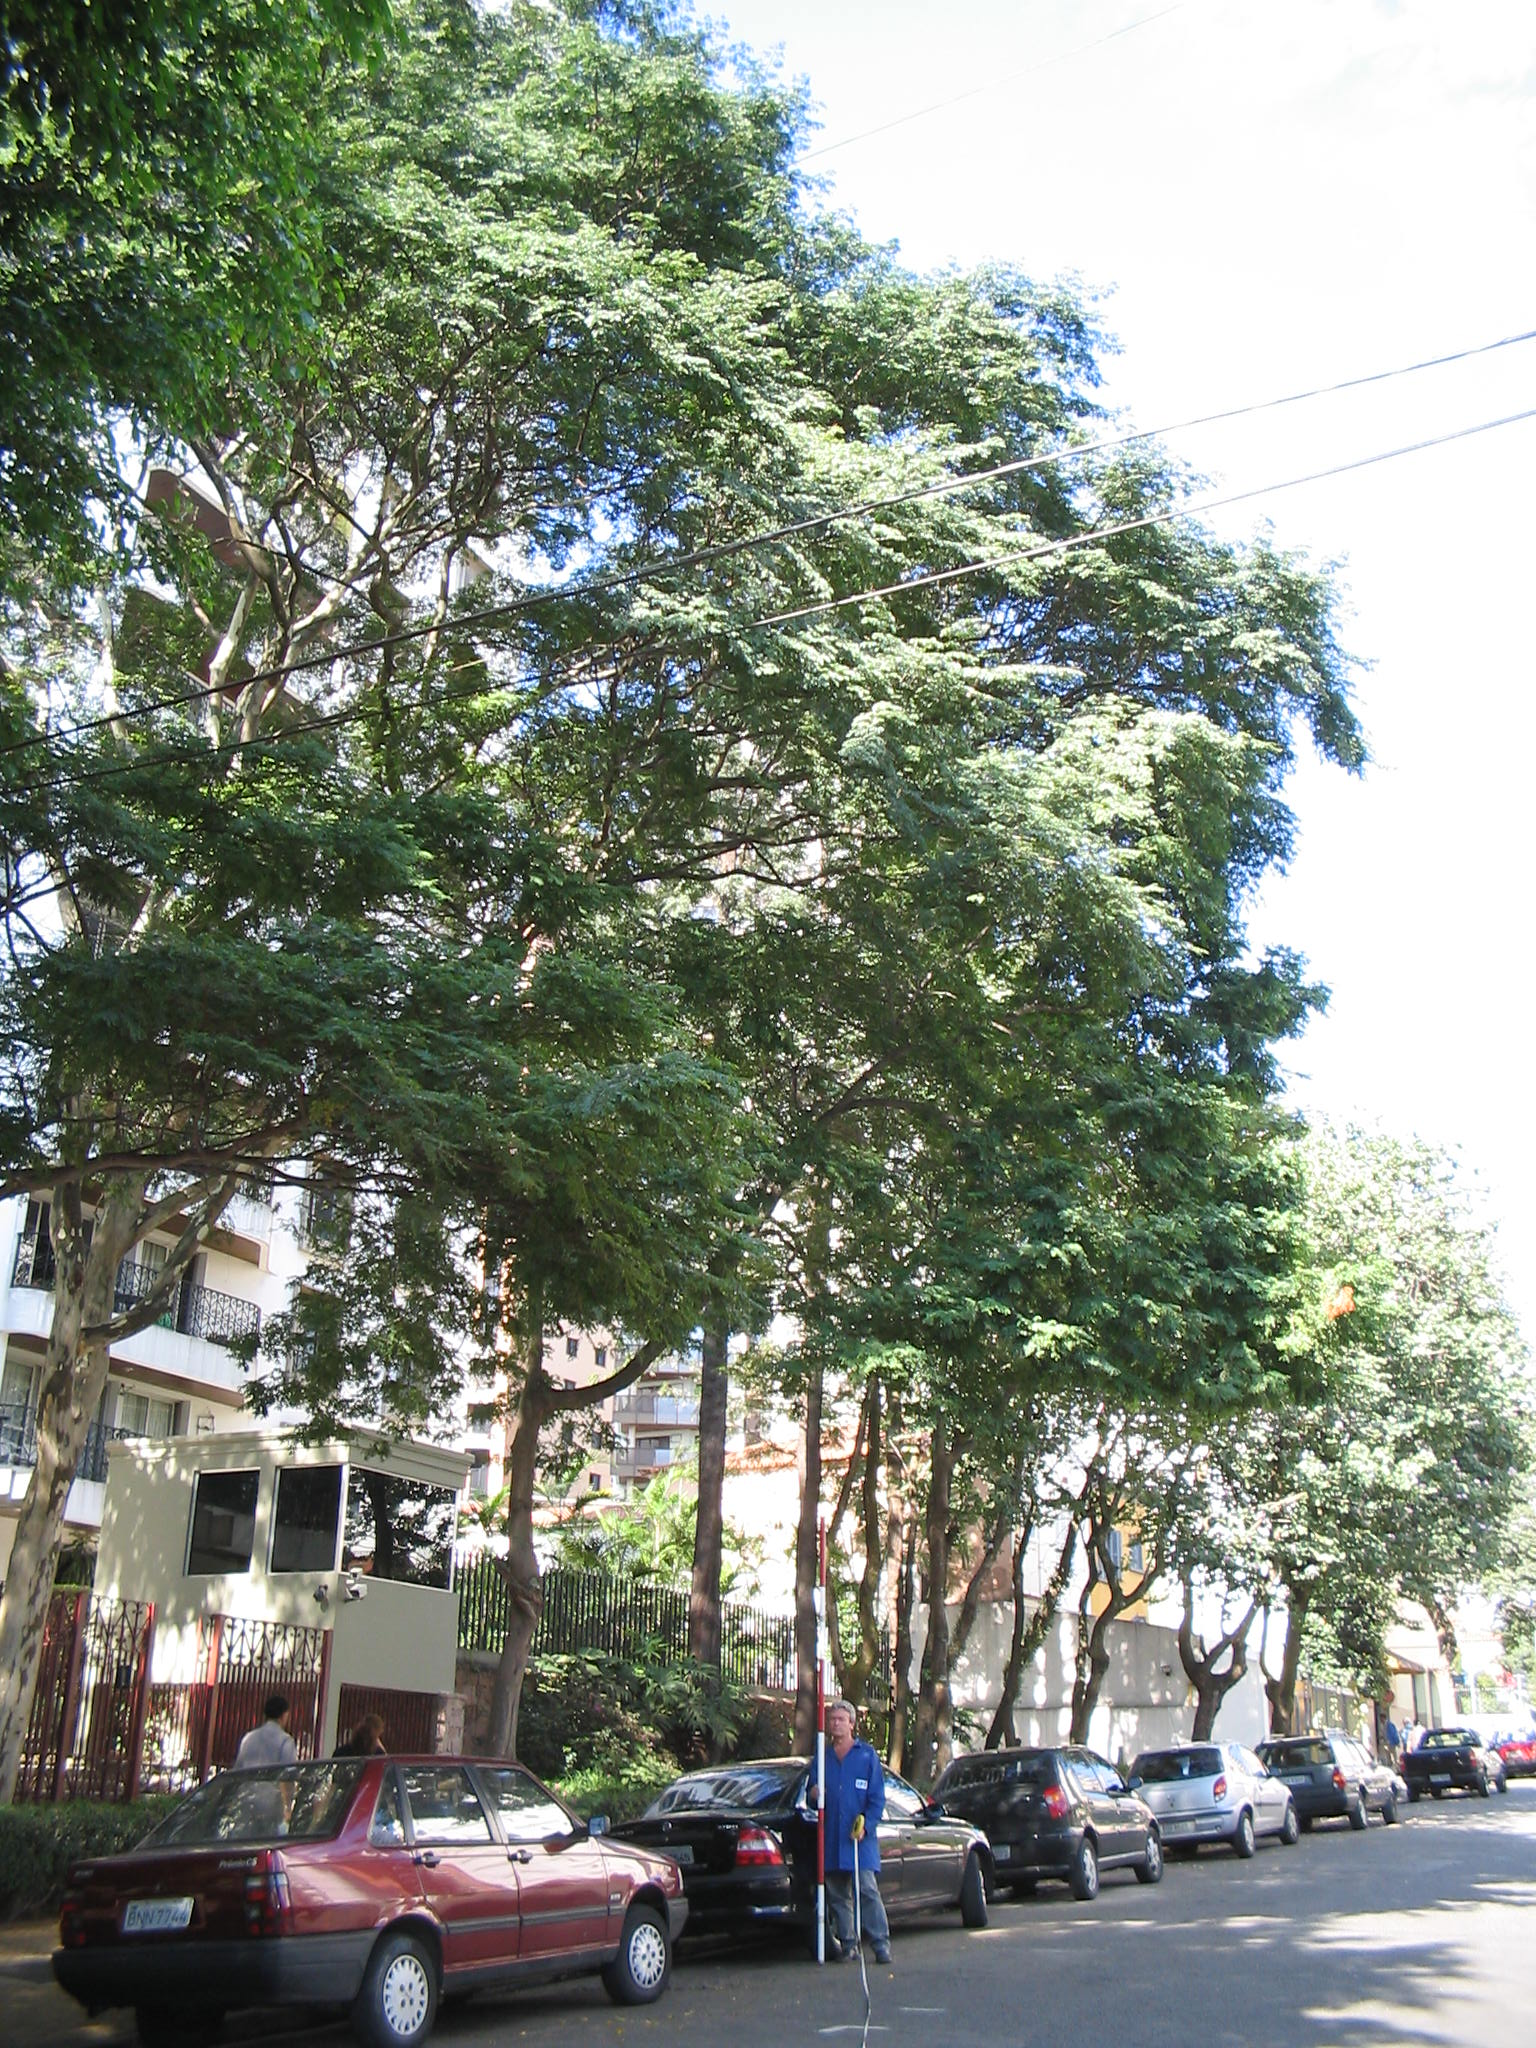crown: (74, 421, 1368, 1453)
stem: (444, 1411, 591, 1966)
stick: (794, 1516, 845, 1964)
tree: (66, 418, 1379, 1967)
